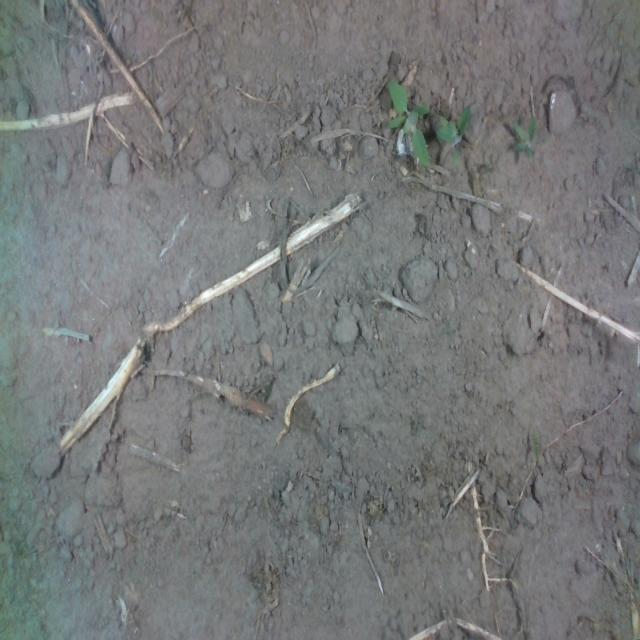weed: (386, 77, 431, 170), (508, 111, 536, 163)
